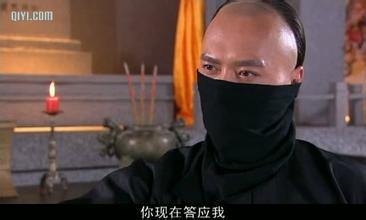OK: (200, 47, 283, 142)
